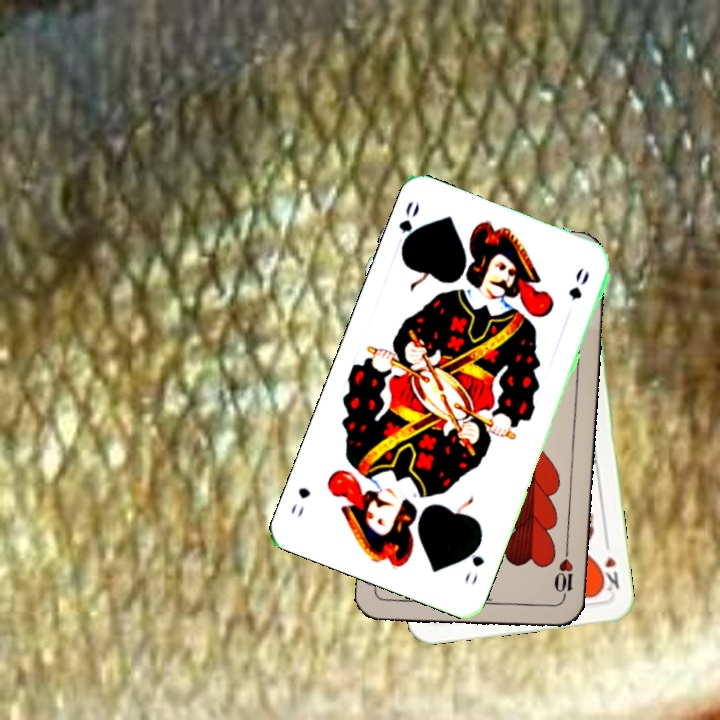GO: (394, 197, 423, 256), (460, 534, 487, 588)
H10: (550, 545, 576, 604)
HK: (594, 537, 622, 595)
